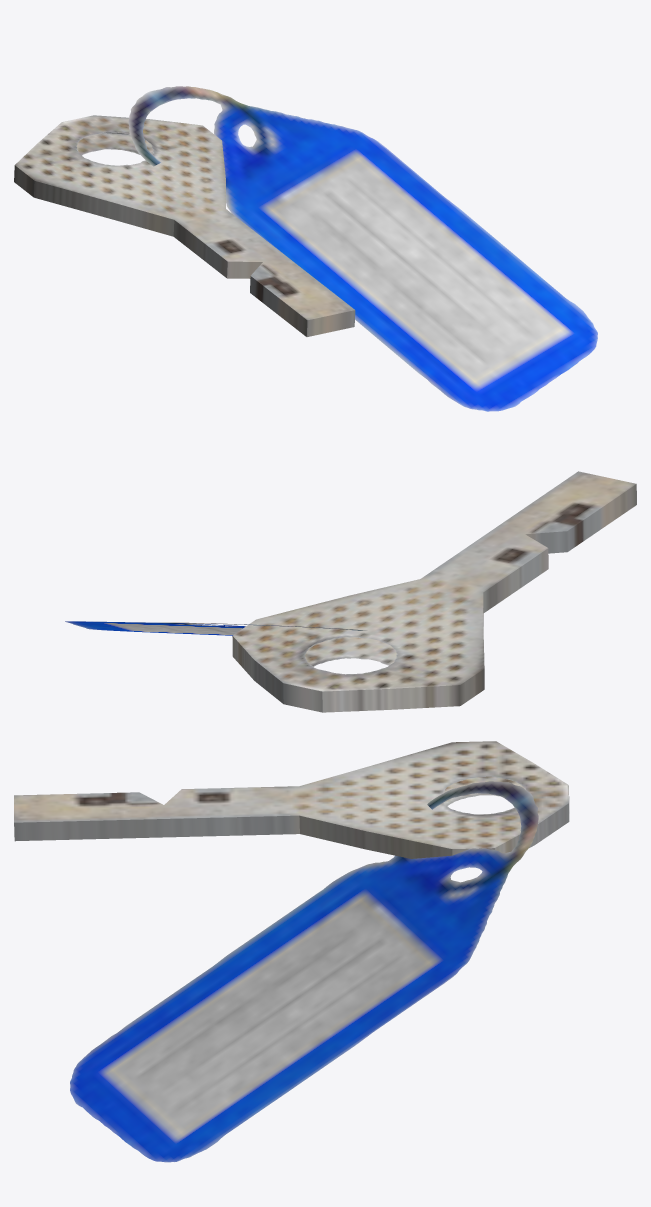
Rendered from key_strange.fbx.
3 renders of one model, top to bottom at view 1: azimuth 30°, elevation 25°; view 2: azimuth 150°, elevation 25°; view 3: azimuth 270°, elevation 25°, orthographic. The views are drawn at different scales.
Visible parts, largest first — view 1: key_Strange; view 2: key_Strange; view 3: key_Strange.
Boxes of the visible parts, bbox=[...] form: key_Strange: bbox=[14, 86, 597, 411]; key_Strange: bbox=[65, 471, 636, 712]; key_Strange: bbox=[14, 741, 569, 1162].
Size of the model in its own units: 19.9 by 8.43 by 20.59.
1 material, 1 textured.
